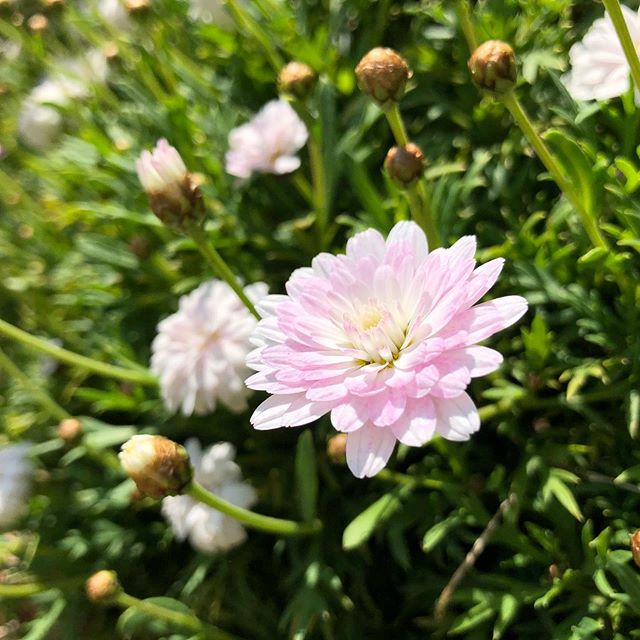flowers: (5, 1, 640, 640)
